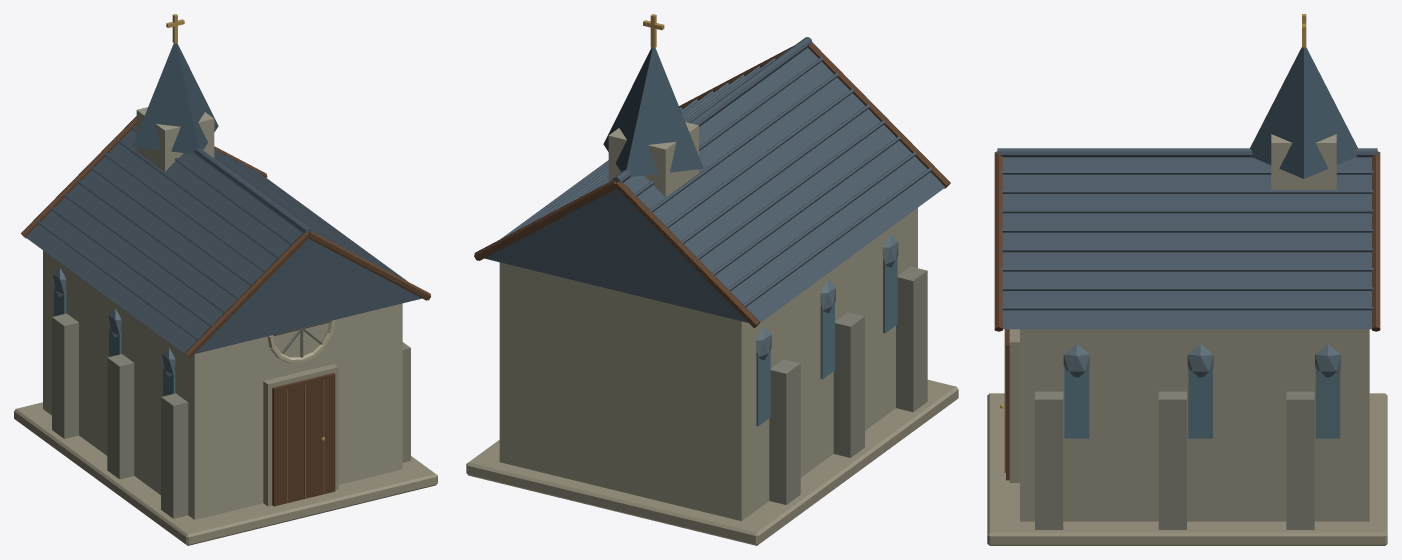
File: build-chapel.glb
The picture shows the model from 3 angles, left to right: view 1: azimuth 30°, elevation 25°; view 2: azimuth 150°, elevation 25°; view 3: azimuth 270°, elevation 25°; orthographic projection. The views are drawn at different scales.
Parts seen in each view (by area): view 1: SculptedModel; view 2: SculptedModel; view 3: SculptedModel.
Part boxes in pixels (x1=…): SculptedModel: x1=14, y1=14, x2=437, y2=545; SculptedModel: x1=466, y1=14, x2=958, y2=545; SculptedModel: x1=987, y1=14, x2=1387, y2=545.
Size of the model in its own units: 4.6 by 6.99 by 5.5.
